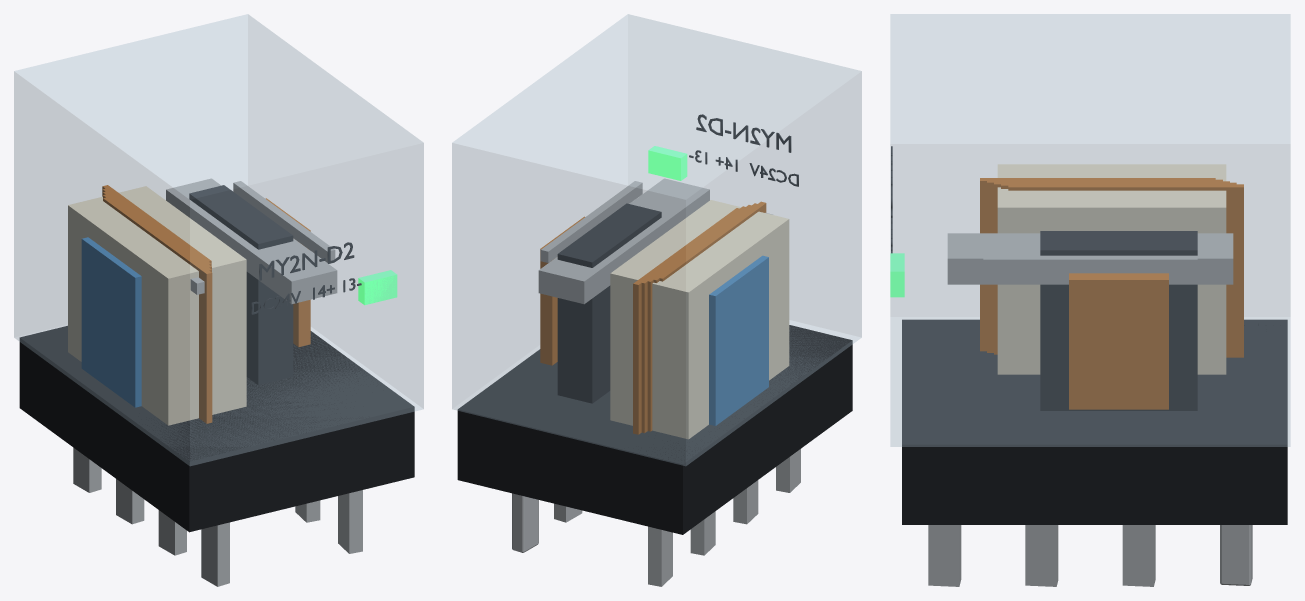
3 renders of one model, left to right at view 1: azimuth 30°, elevation 25°; view 2: azimuth 150°, elevation 25°; view 3: azimuth 270°, elevation 25°, orthographic. The views are drawn at different scales.
Parts seen in each view (by area): view 1: cover:my2n-transparent, base:my2n, coil:my2n-copper, tape:my2n-dc-blue, armature:my2n-frame, armature:my2n, coil:my2n-turn--4.5, contact:my2n-spring-1, terminal:1, terminal:4, runtime:coil-indicator, terminal:5 (+7 smaller); view 2: cover:my2n-transparent, base:my2n, coil:my2n-copper, armature:my2n-frame, tape:my2n-dc-blue, armature:my2n, coil:my2n-turn-4.5, contact:my2n-spring-1, coil:my2n-turn-0, coil:my2n-turn-2.2, terminal:14, contact:my2n-fixed-1 (+8 smaller); view 3: cover:my2n-transparent, base:my2n, coil:my2n-copper, contact:my2n-fixed-1, armature:my2n-frame, armature:my2n, coil:my2n-turn-4.5, contact:my2n-spring-1, terminal:12, terminal:8, terminal:4, terminal:14 (+4 smaller).
Part boxes in pixels (x1,y1,x2,y2): cover:my2n-transparent: (14,14,423,465); base:my2n: (19,326,414,532); coil:my2n-copper: (68,186,246,425); tape:my2n-dc-blue: (81,237,141,407); armature:my2n-frame: (189,185,293,385); armature:my2n: (166,178,337,304); coil:my2n-turn--4.5: (103,197,212,423); contact:my2n-spring-1: (233,181,335,262); terminal:1: (201,522,229,586); terminal:4: (338,490,362,553); runtime:coil-indicator: (358,270,397,305); terminal:5: (158,510,186,555); cover:my2n-transparent: (452,14,861,465); base:my2n: (457,325,852,534); coil:my2n-copper: (610,200,789,439); armature:my2n-frame: (557,203,661,403); tape:my2n-dc-blue: (709,255,768,425); armature:my2n: (538,178,709,304); coil:my2n-turn-4.5: (633,208,741,434); contact:my2n-spring-1: (540,181,642,262); coil:my2n-turn-0: (646,205,751,431); coil:my2n-turn-2.2: (639,206,745,433); terminal:14: (512,493,538,552); contact:my2n-fixed-1: (540,216,584,365); cover:my2n-transparent: (890,14,1290,446); base:my2n: (902,319,1287,524); coil:my2n-copper: (997,164,1226,374); contact:my2n-fixed-1: (1069,273,1168,409); armature:my2n-frame: (1040,231,1197,410); armature:my2n: (947,233,1233,284); coil:my2n-turn-4.5: (1008,184,1243,357); contact:my2n-spring-1: (983,255,1197,272); terminal:12: (1122,525,1155,586); terminal:8: (1025,525,1058,586); terminal:4: (928,525,961,586); terminal:14: (1220,525,1252,585).
Bounding box in the file's own units: 0.0215 × 0.036 × 0.028.
